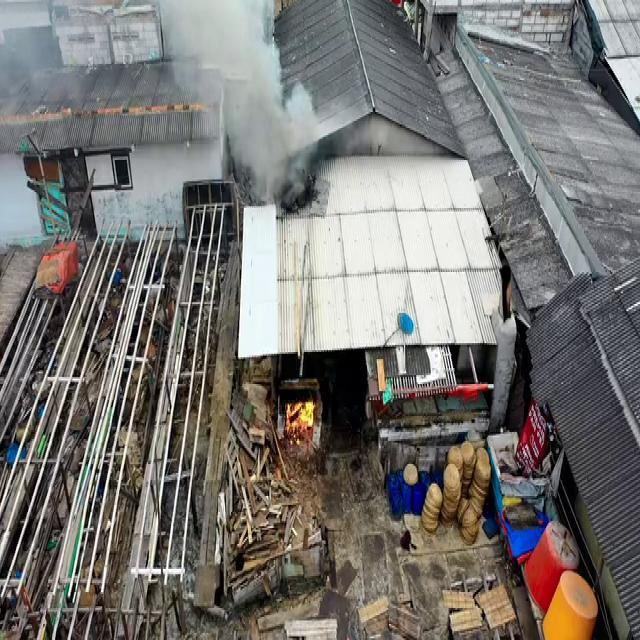smoke: (218, 0, 281, 166), (158, 0, 230, 81), (276, 88, 318, 206), (182, 55, 240, 124), (248, 146, 281, 198)
